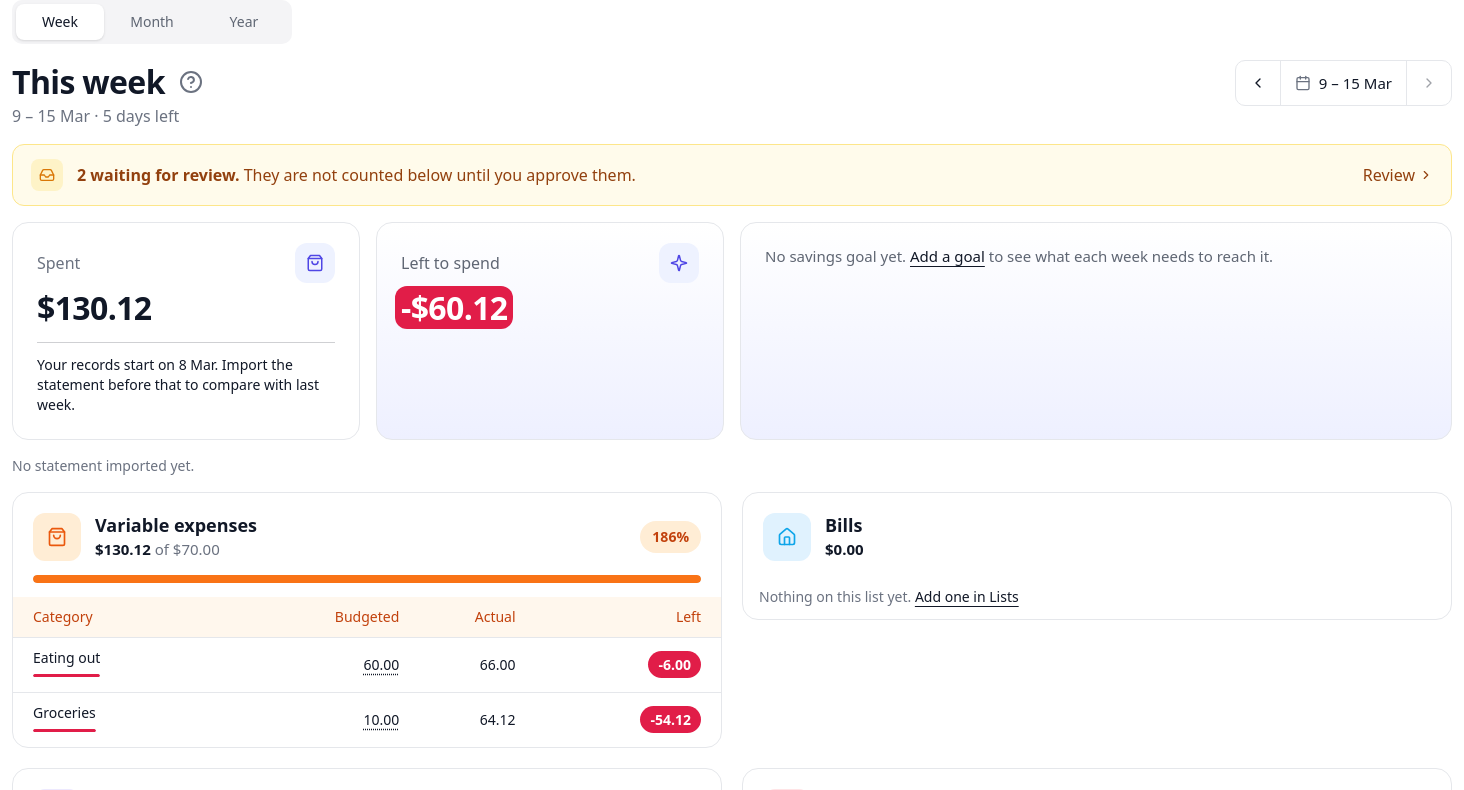
WeekScreen › shows an overspent week below zero, and steps forward again to today
This screenshot has width=1464, height=790.
Expected: the button named "Next week" is disabled, [1407,61,1451,105]
Expected: the element showing "9 – 15 Mar" is shown, [1280,61,1407,105]
Click the button named "Previous week": x=1258, y=83 [1236,61,1280,105]
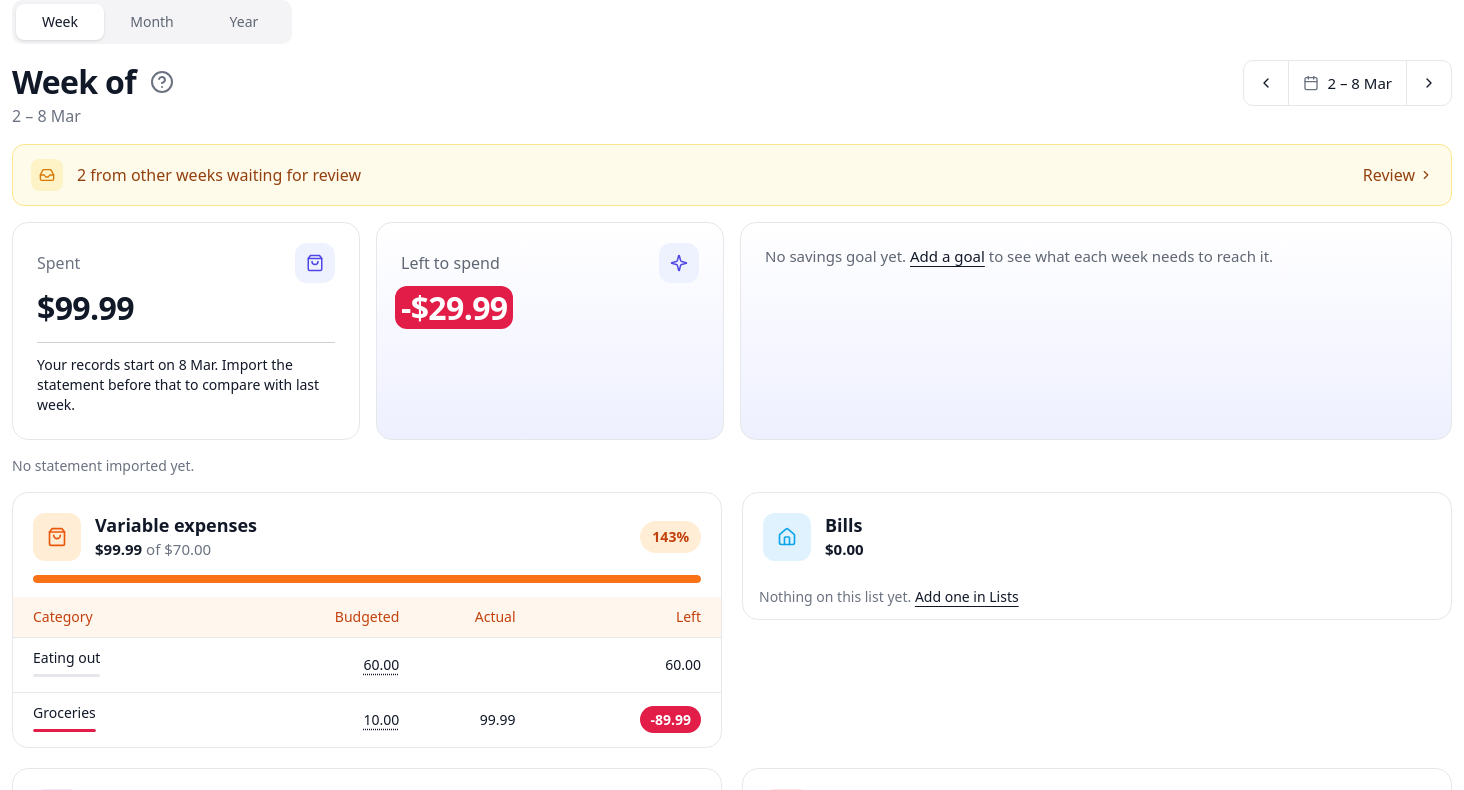
Expected: the heading "Week of" is shown, [12,62,136,102]
Click the button named "Next week": x=1429, y=83 [1407,61,1451,105]
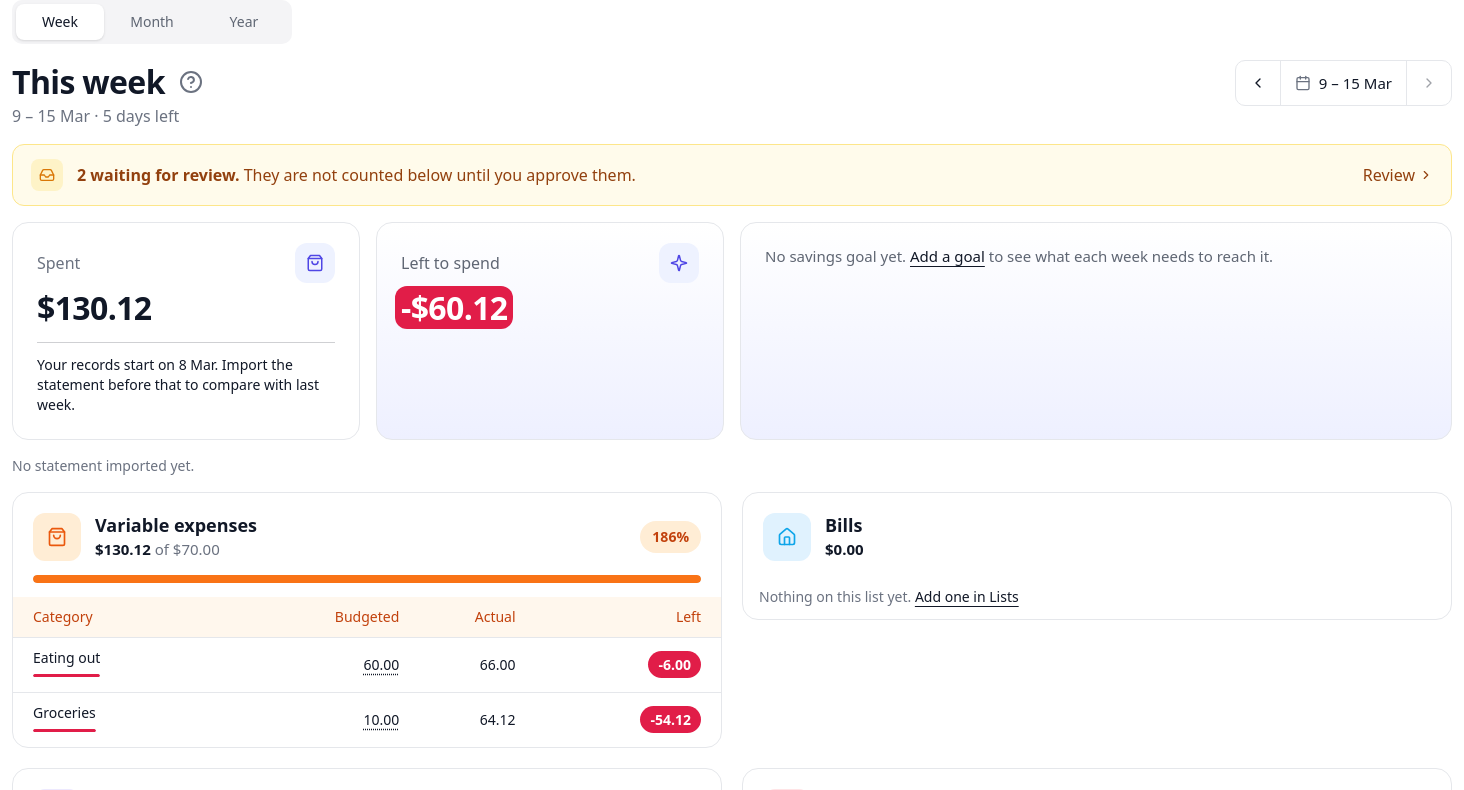
Expected: the heading "This week" is shown, [12,62,165,102]
Expected: the text "9 – 15 Mar · 5 days left" is shown, [12,105,179,127]
